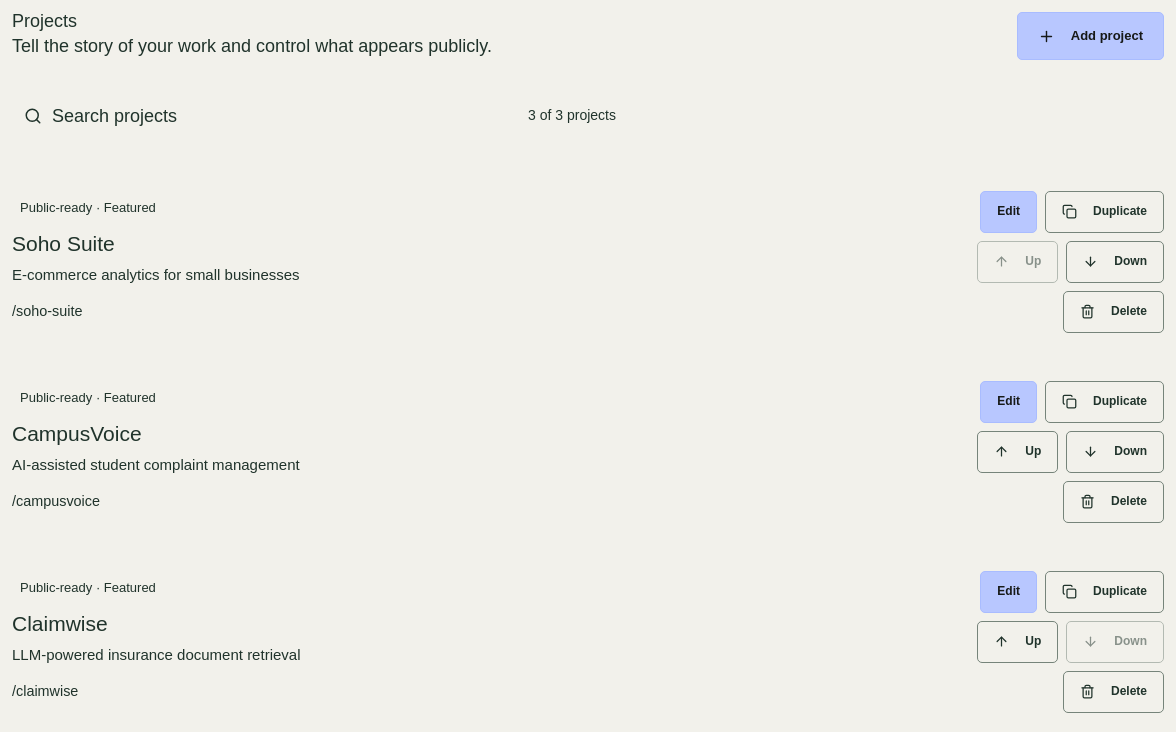
Test: waits for a duplicated project to be saved before opening its editor
Later steps or results of the test are not shown.
Click the 1st button "Duplicate" at [1104, 212], box [1045,191,1164,233]
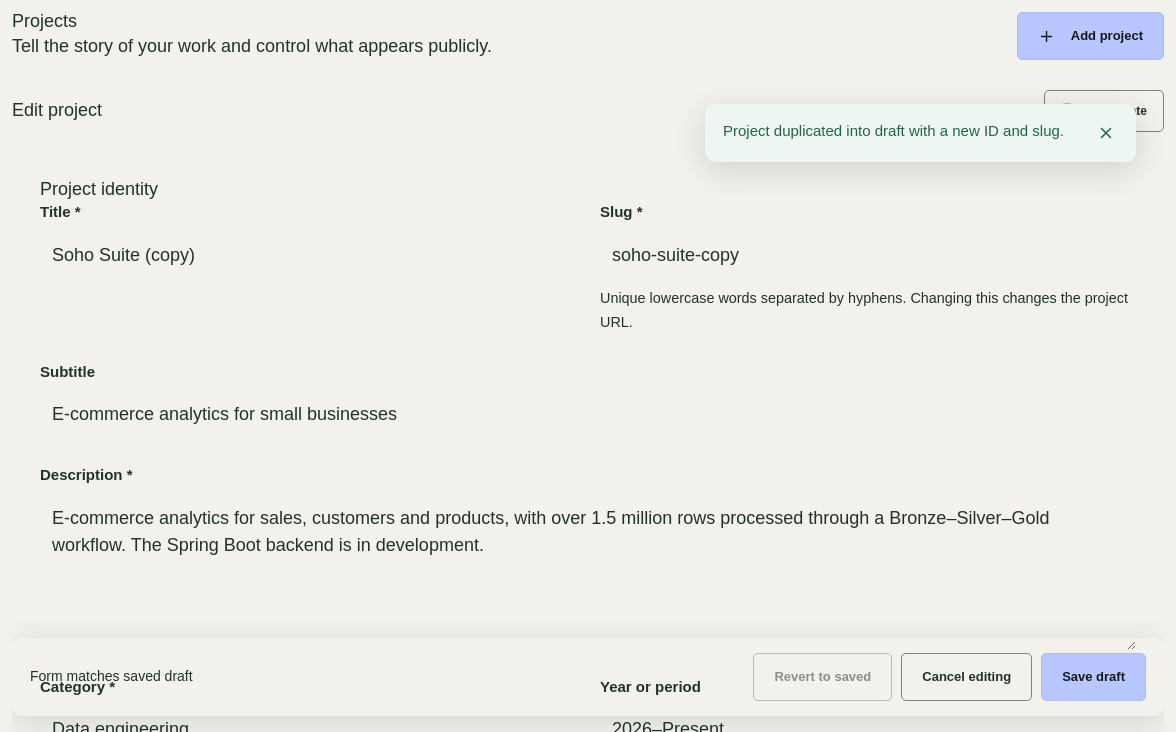
Check: the field labelled "Slug" holds "soho-suite-copy", box [600,232,1136,279]
